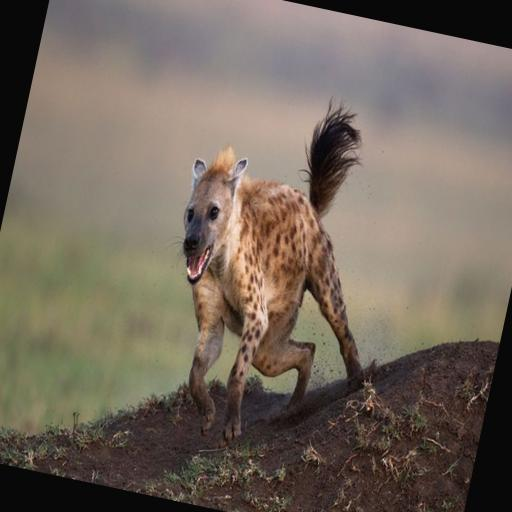hyenas: (86, 70, 414, 467)
